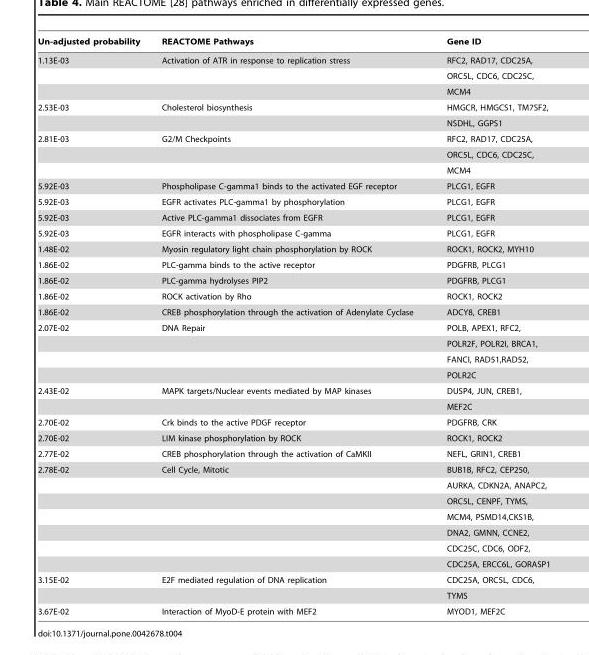table: (37, 36, 549, 615)
table column: (150, 36, 429, 615), (429, 36, 549, 615), (37, 36, 150, 615)
table column header: (37, 36, 549, 50)
table row: (37, 50, 549, 67), (37, 67, 549, 83), (37, 83, 549, 99), (37, 99, 549, 115), (37, 130, 549, 146), (37, 146, 549, 162), (37, 162, 549, 178), (37, 193, 549, 209), (37, 209, 549, 225), (37, 225, 549, 241), (37, 256, 549, 272), (37, 272, 549, 288), (37, 288, 549, 304), (37, 319, 549, 335), (37, 335, 549, 351), (37, 351, 549, 367), (37, 382, 549, 398), (37, 398, 549, 414), (37, 414, 549, 430), (37, 445, 549, 461), (37, 461, 549, 477), (37, 477, 549, 493), (37, 508, 549, 524), (37, 524, 549, 540), (37, 540, 549, 556), (37, 571, 549, 587), (37, 587, 549, 603), (37, 115, 549, 130), (37, 178, 549, 193), (37, 241, 549, 256), (37, 304, 549, 319), (37, 367, 549, 382), (37, 430, 549, 445), (37, 493, 549, 508), (37, 556, 549, 571), (37, 36, 549, 50), (37, 603, 549, 615)
table spanning cell: (37, 461, 150, 571), (37, 319, 150, 382), (37, 50, 150, 99), (37, 130, 150, 178), (37, 382, 150, 414), (37, 571, 150, 603), (37, 99, 150, 130)
